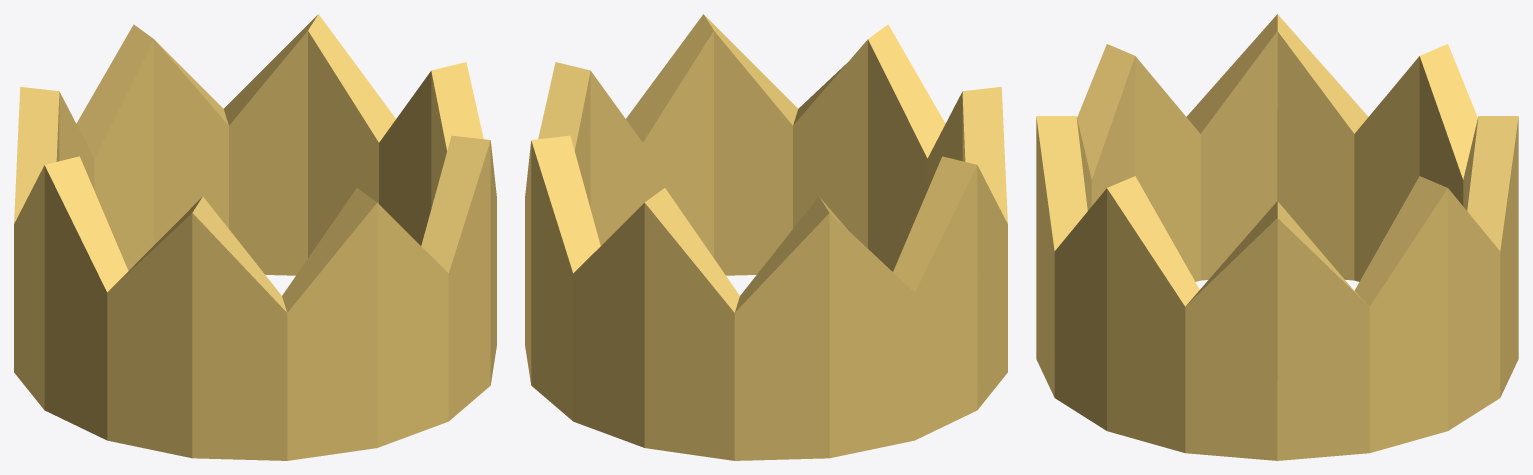
File: goblin_king.fbx
3 renders of one model, left to right at view 1: azimuth 30°, elevation 25°; view 2: azimuth 150°, elevation 25°; view 3: azimuth 270°, elevation 25°, orthographic.
Visible parts, largest first — view 1: ring; view 2: ring; view 3: ring.
Boxes of the visible parts, x1,y1,x2,y2 form: ring: [14, 14, 496, 460]; ring: [525, 14, 1007, 460]; ring: [1036, 14, 1518, 460].
Size of the model in its own units: 240 by 133 by 240.
